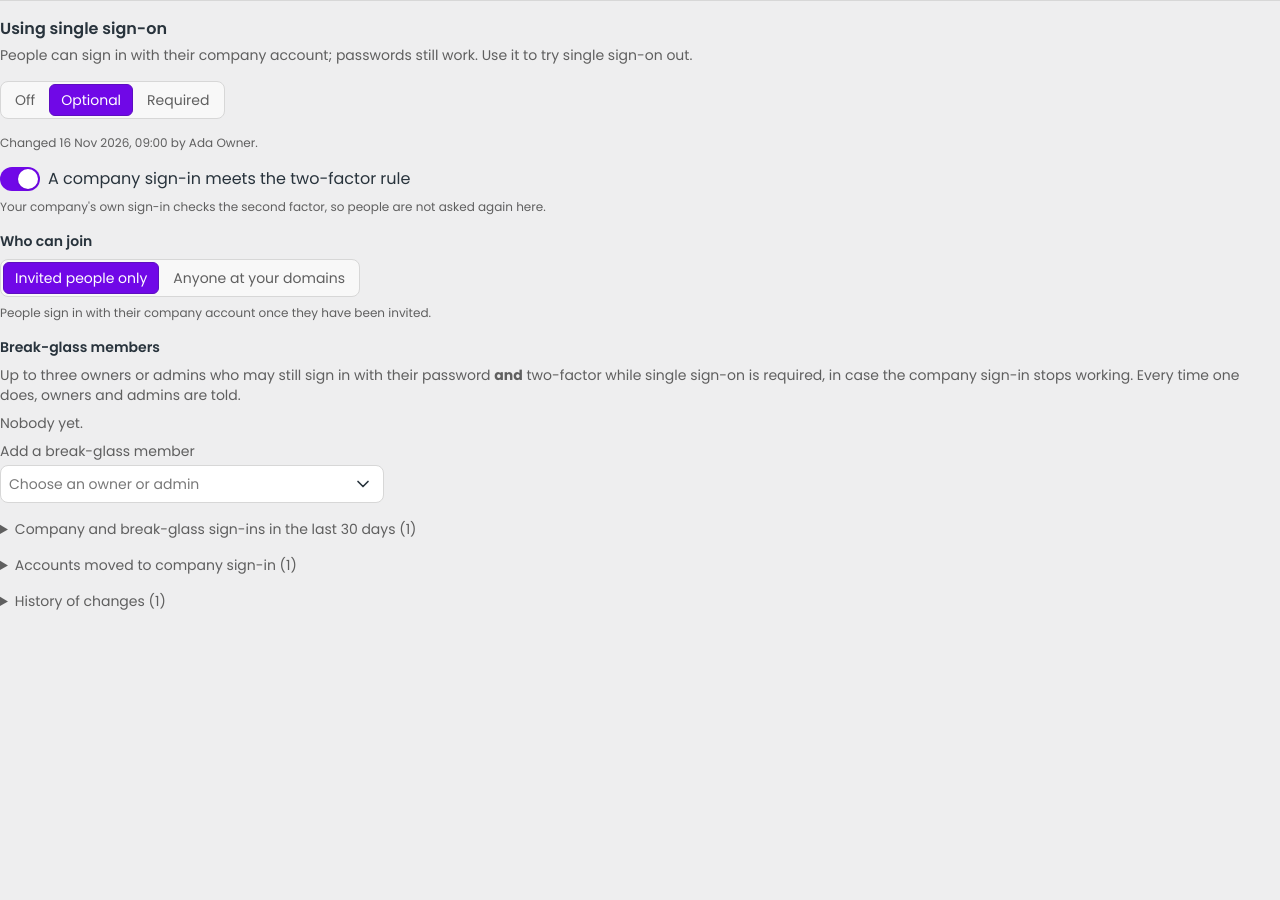
Scenario: Settings → Security → Single sign-on: using it › cannot be required from a password session: it says to sign in with the company account first
Click the radio button labelled "Required" at (178, 100), box [135,84,222,116]
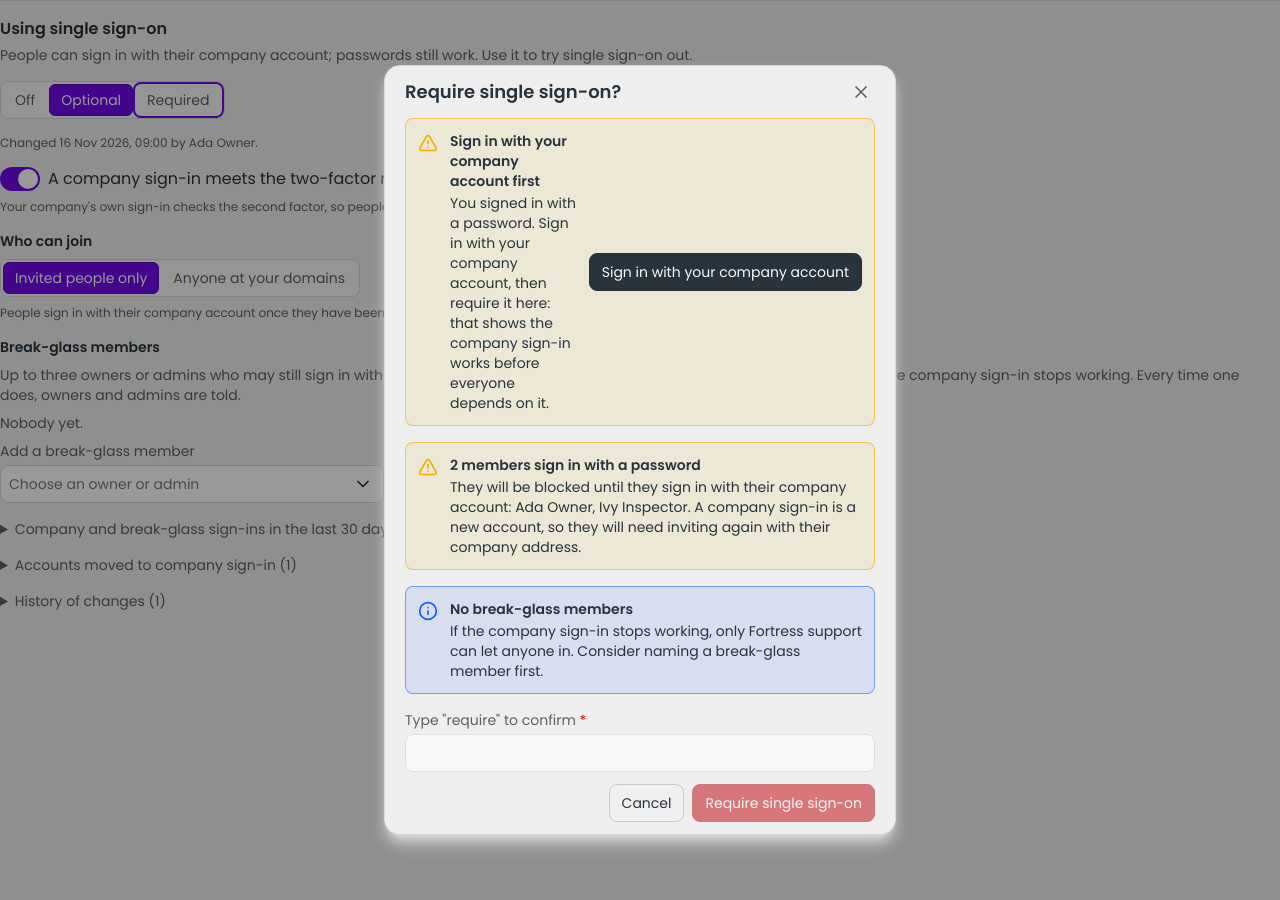
Result: the text "Sign in with your company account first" is shown at [450,131,577,191]
Result: the button "Require single sign-on" is disabled at [692,784,875,822]
